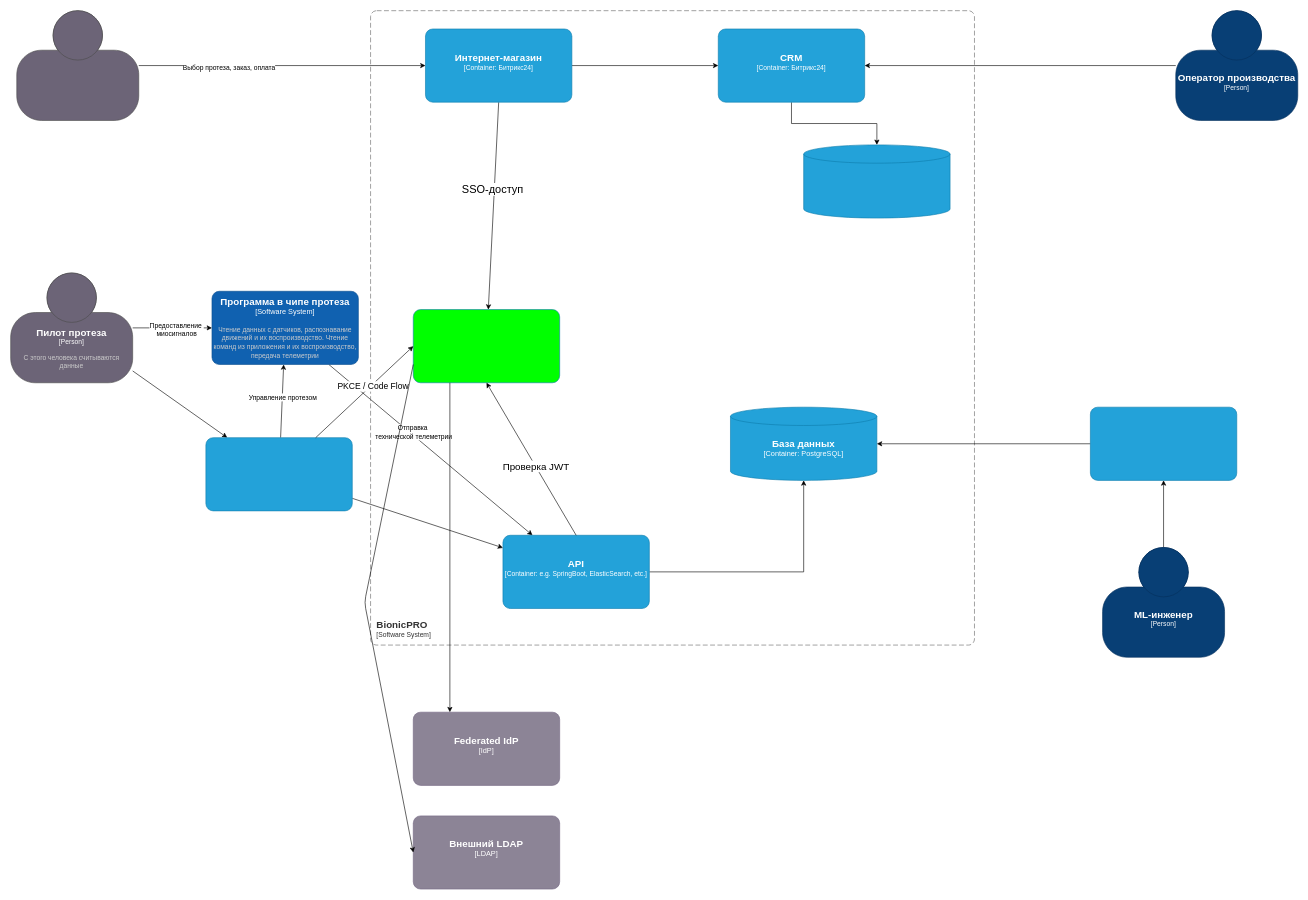
This 1308x900 diagram has some shape labels left out. Each missing label, with the centre of its shape:
"cli tool [Container: e.g. SpringBoot, ElasticSearch, etc.]" goes at [1163,443].
"CRM DB [Container: e.g. Oracle Database 12]" goes at [876,181].
"IAM Broker [Container: Keyclock] SSO, PCKE, внешние IdP, выпуск JWT" goes at [486,346].
"Покупатель протеза [Person]" goes at [77,65].
"Приложение для донастройки протеза [Container: iOD, Android]" goes at [278,474].
